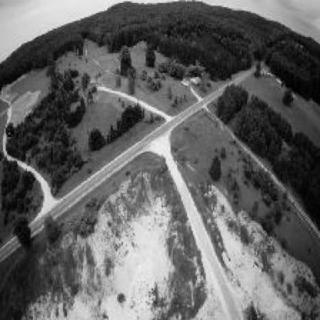other: (209, 185, 273, 311), (95, 204, 171, 308), (144, 133, 180, 175)
